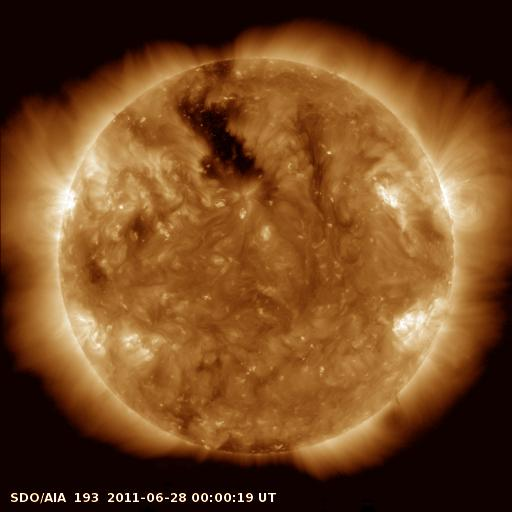coronal_hole: (170, 88, 278, 207)
